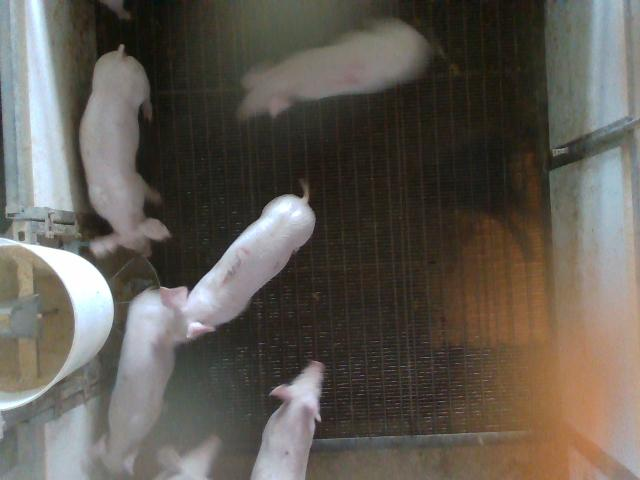pig-3: (159, 191, 315, 349)
pig-4: (238, 20, 431, 119)
